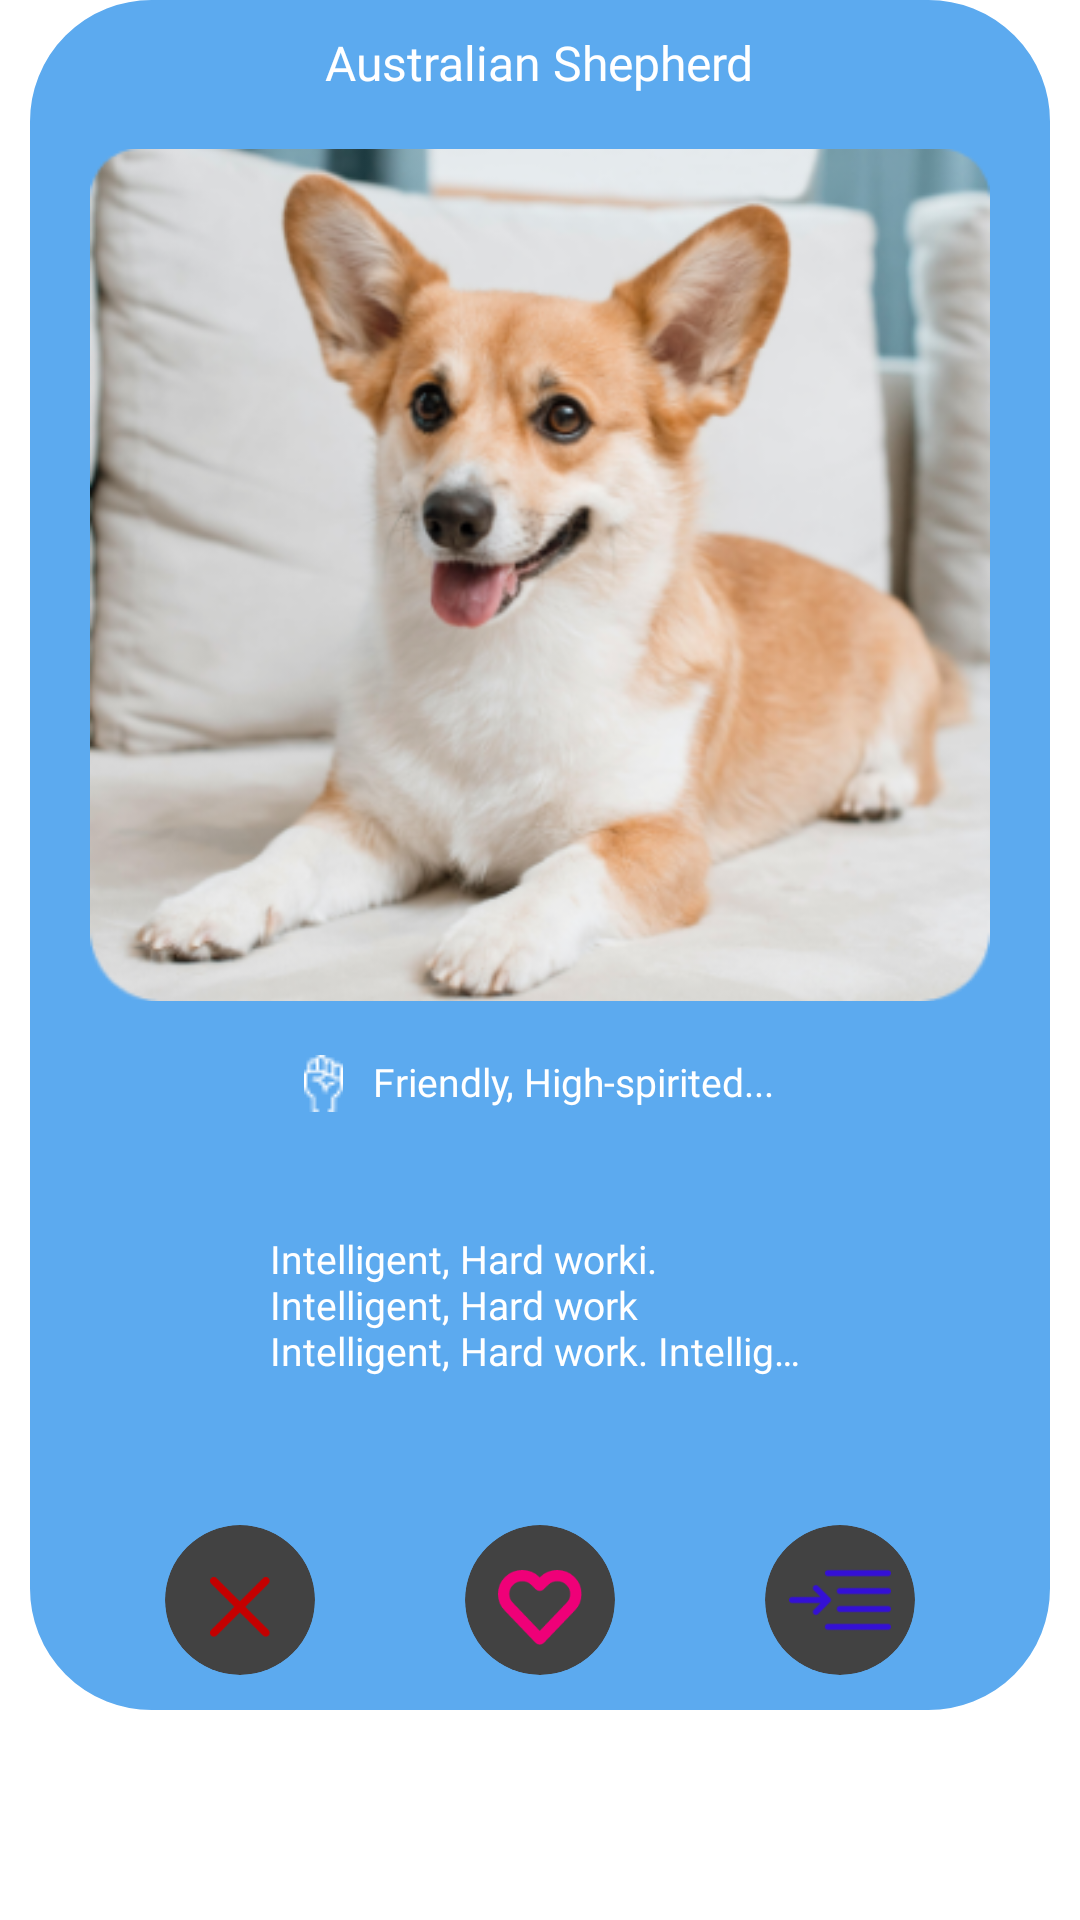

Screen size 1080x1920. Icon name, then its box in pixels as (x1,y1,x2,y2):
hand: (304,1055,343,1112)
